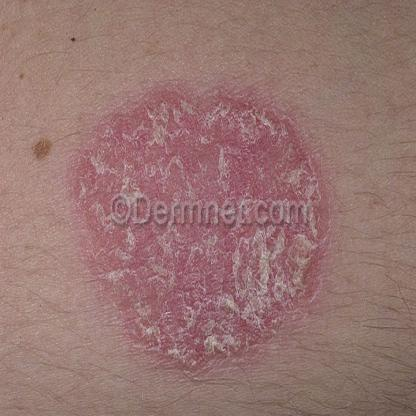Psoriasis: (67, 72, 339, 380)
